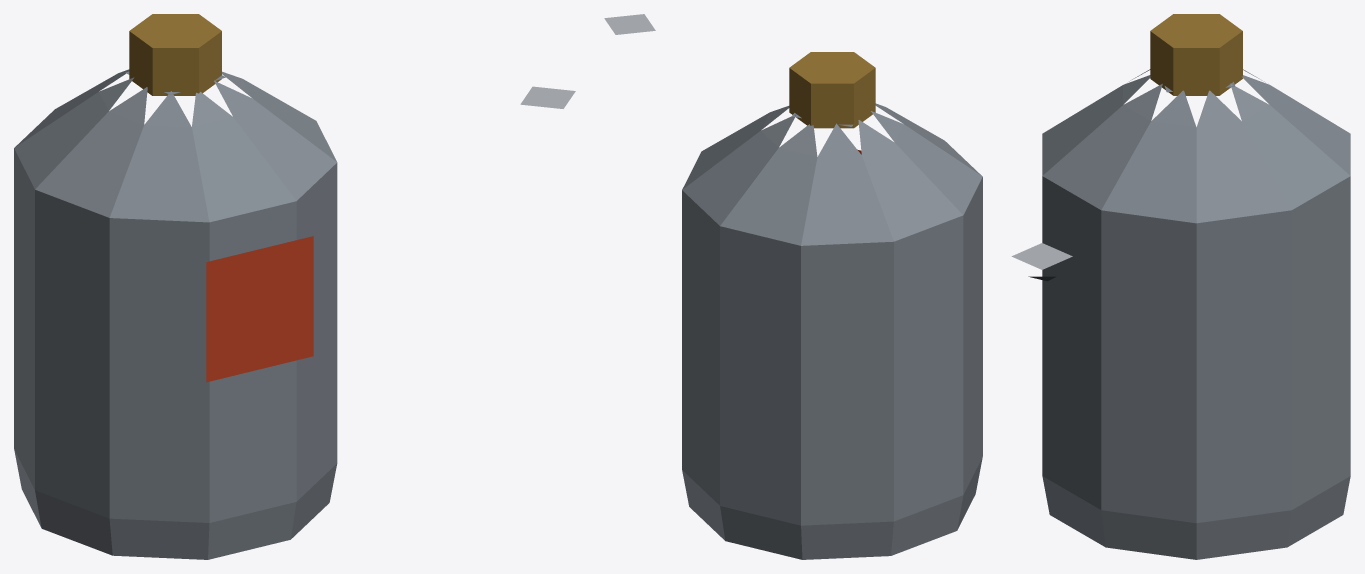
File: projector-tank-incendiary.lod.glb
3 renders of one model, left to right at view 1: azimuth 30°, elevation 25°; view 2: azimuth 150°, elevation 25°; view 3: azimuth 270°, elevation 25°, orthographic. The views are drawn at different scales.
Visible parts, largest first — view 1: m; view 2: m; view 3: m.
Boxes of the visible parts, <box> form: m: <box>14,14,575,559</box>; m: <box>604,14,982,559</box>; m: <box>1011,14,1350,559</box>.
Bounding box in the file's own units: 0.1124 × 0.1077 × 0.0714.
